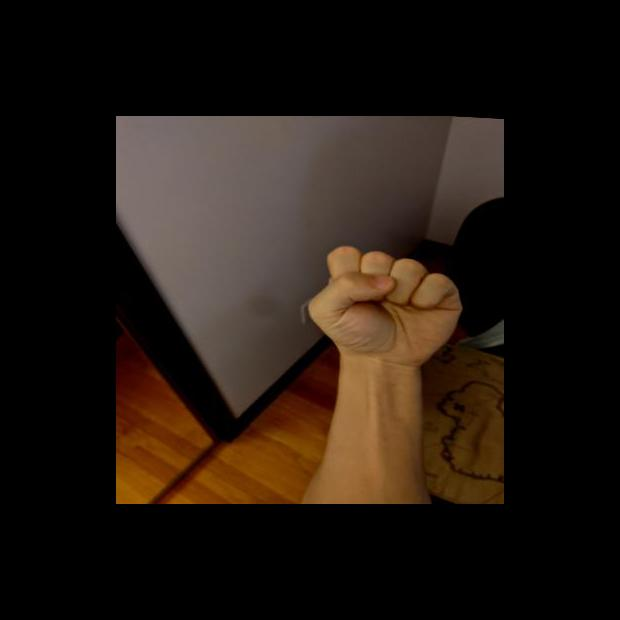R: (298, 240, 471, 370)
